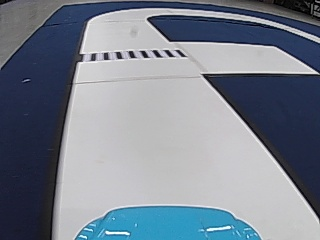CrossWalk: (83, 46, 186, 62)
